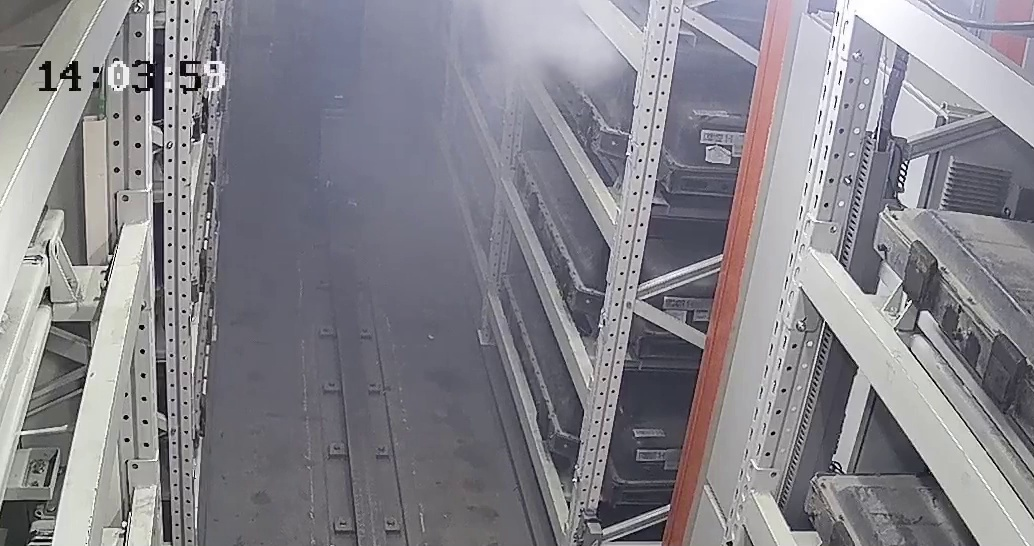smoke: (442, 9, 630, 94)
